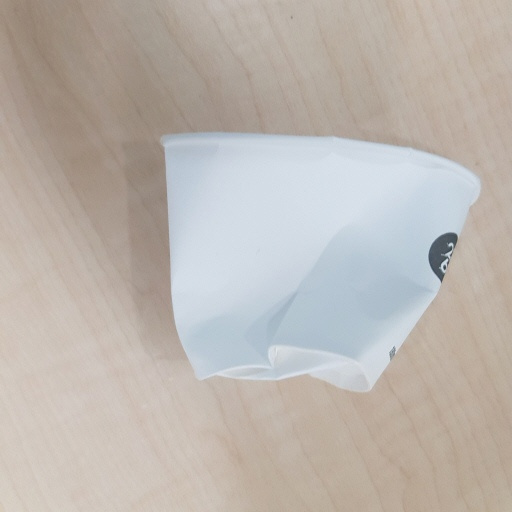Paper_1: (146, 129, 480, 396)
